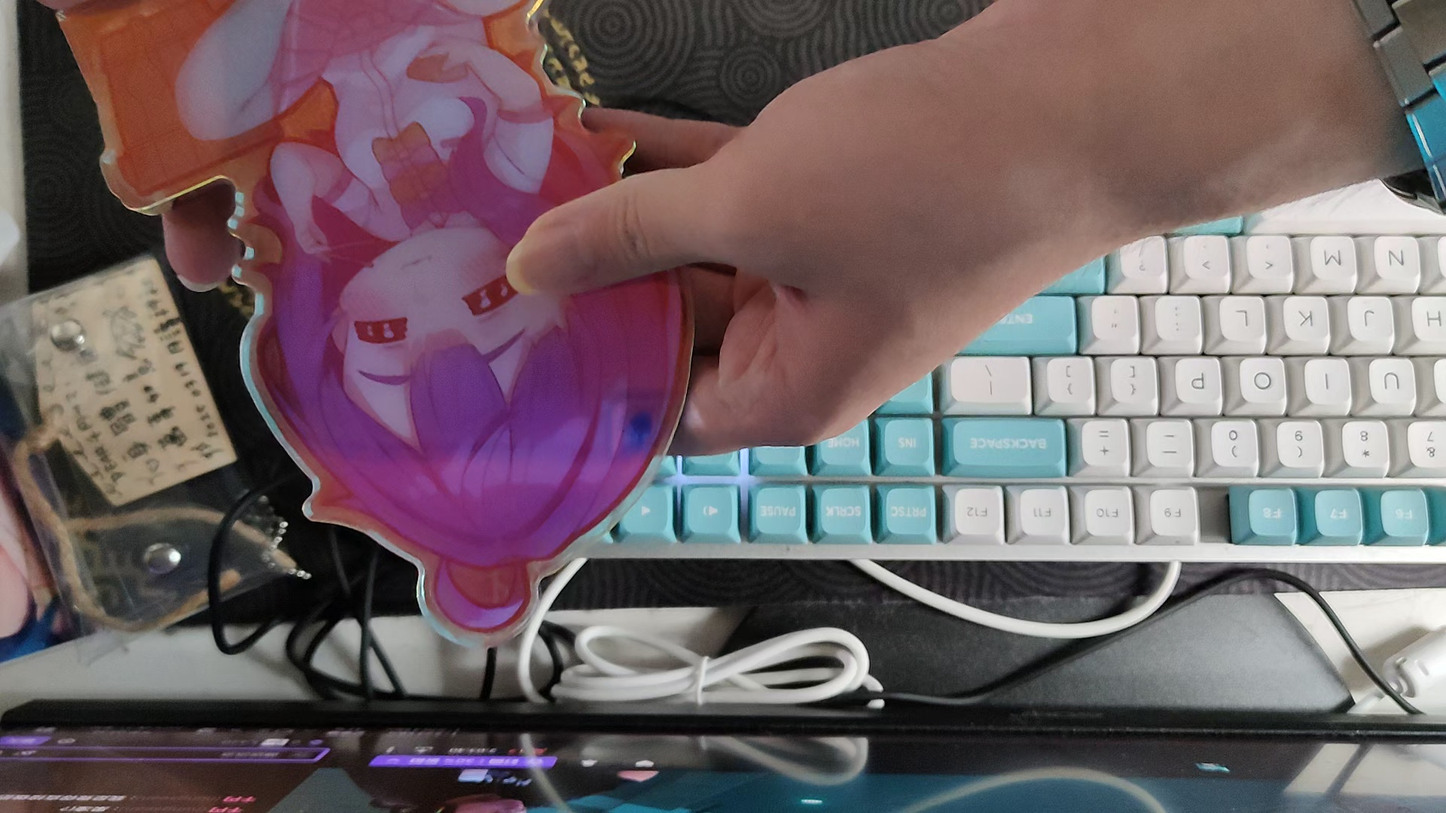Yanami-anna: (53, 0, 701, 637)
